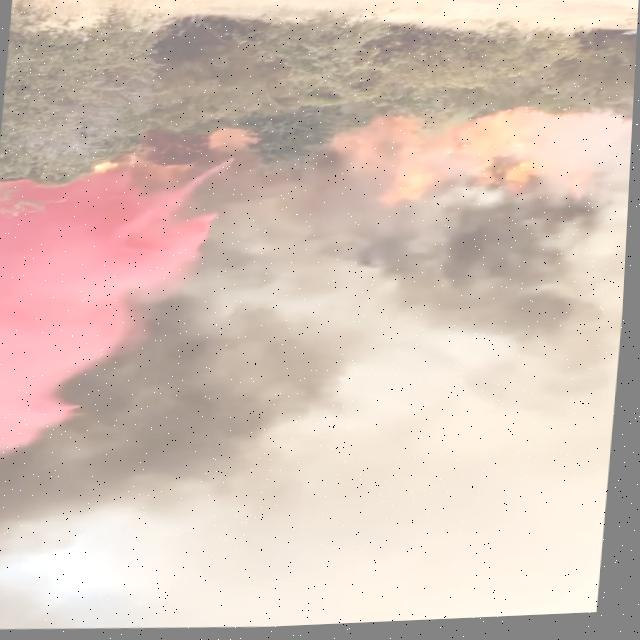Fire: (342, 101, 635, 231)
Smoke: (137, 172, 632, 509), (0, 439, 615, 640)
